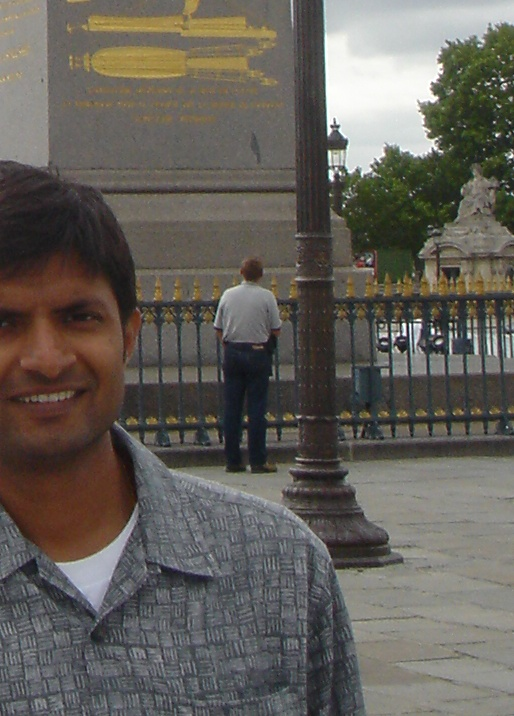person: (214, 256, 280, 475)
